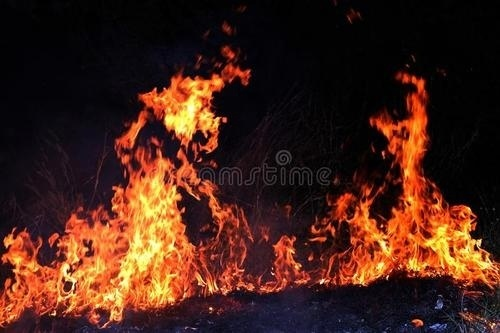fire: (11, 30, 317, 324)
